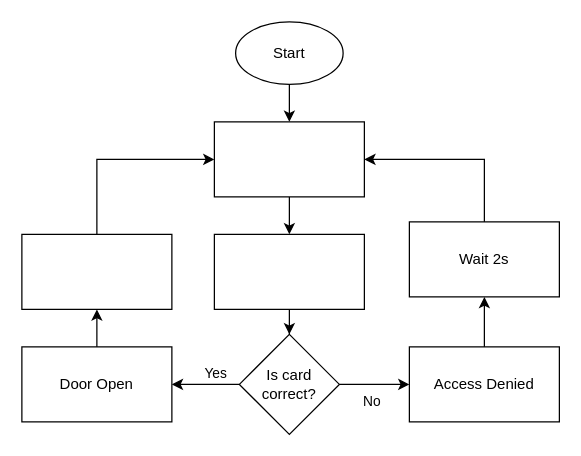
This 581x456 diagram has some shape labels left out. The box of each missing label's shape, as (x1, y1, x2, y2) in pixels:
Door closed: (213, 121, 364, 197)
Wait 3.5s: (21, 233, 172, 309)
Waiting for card: (213, 233, 364, 309)
